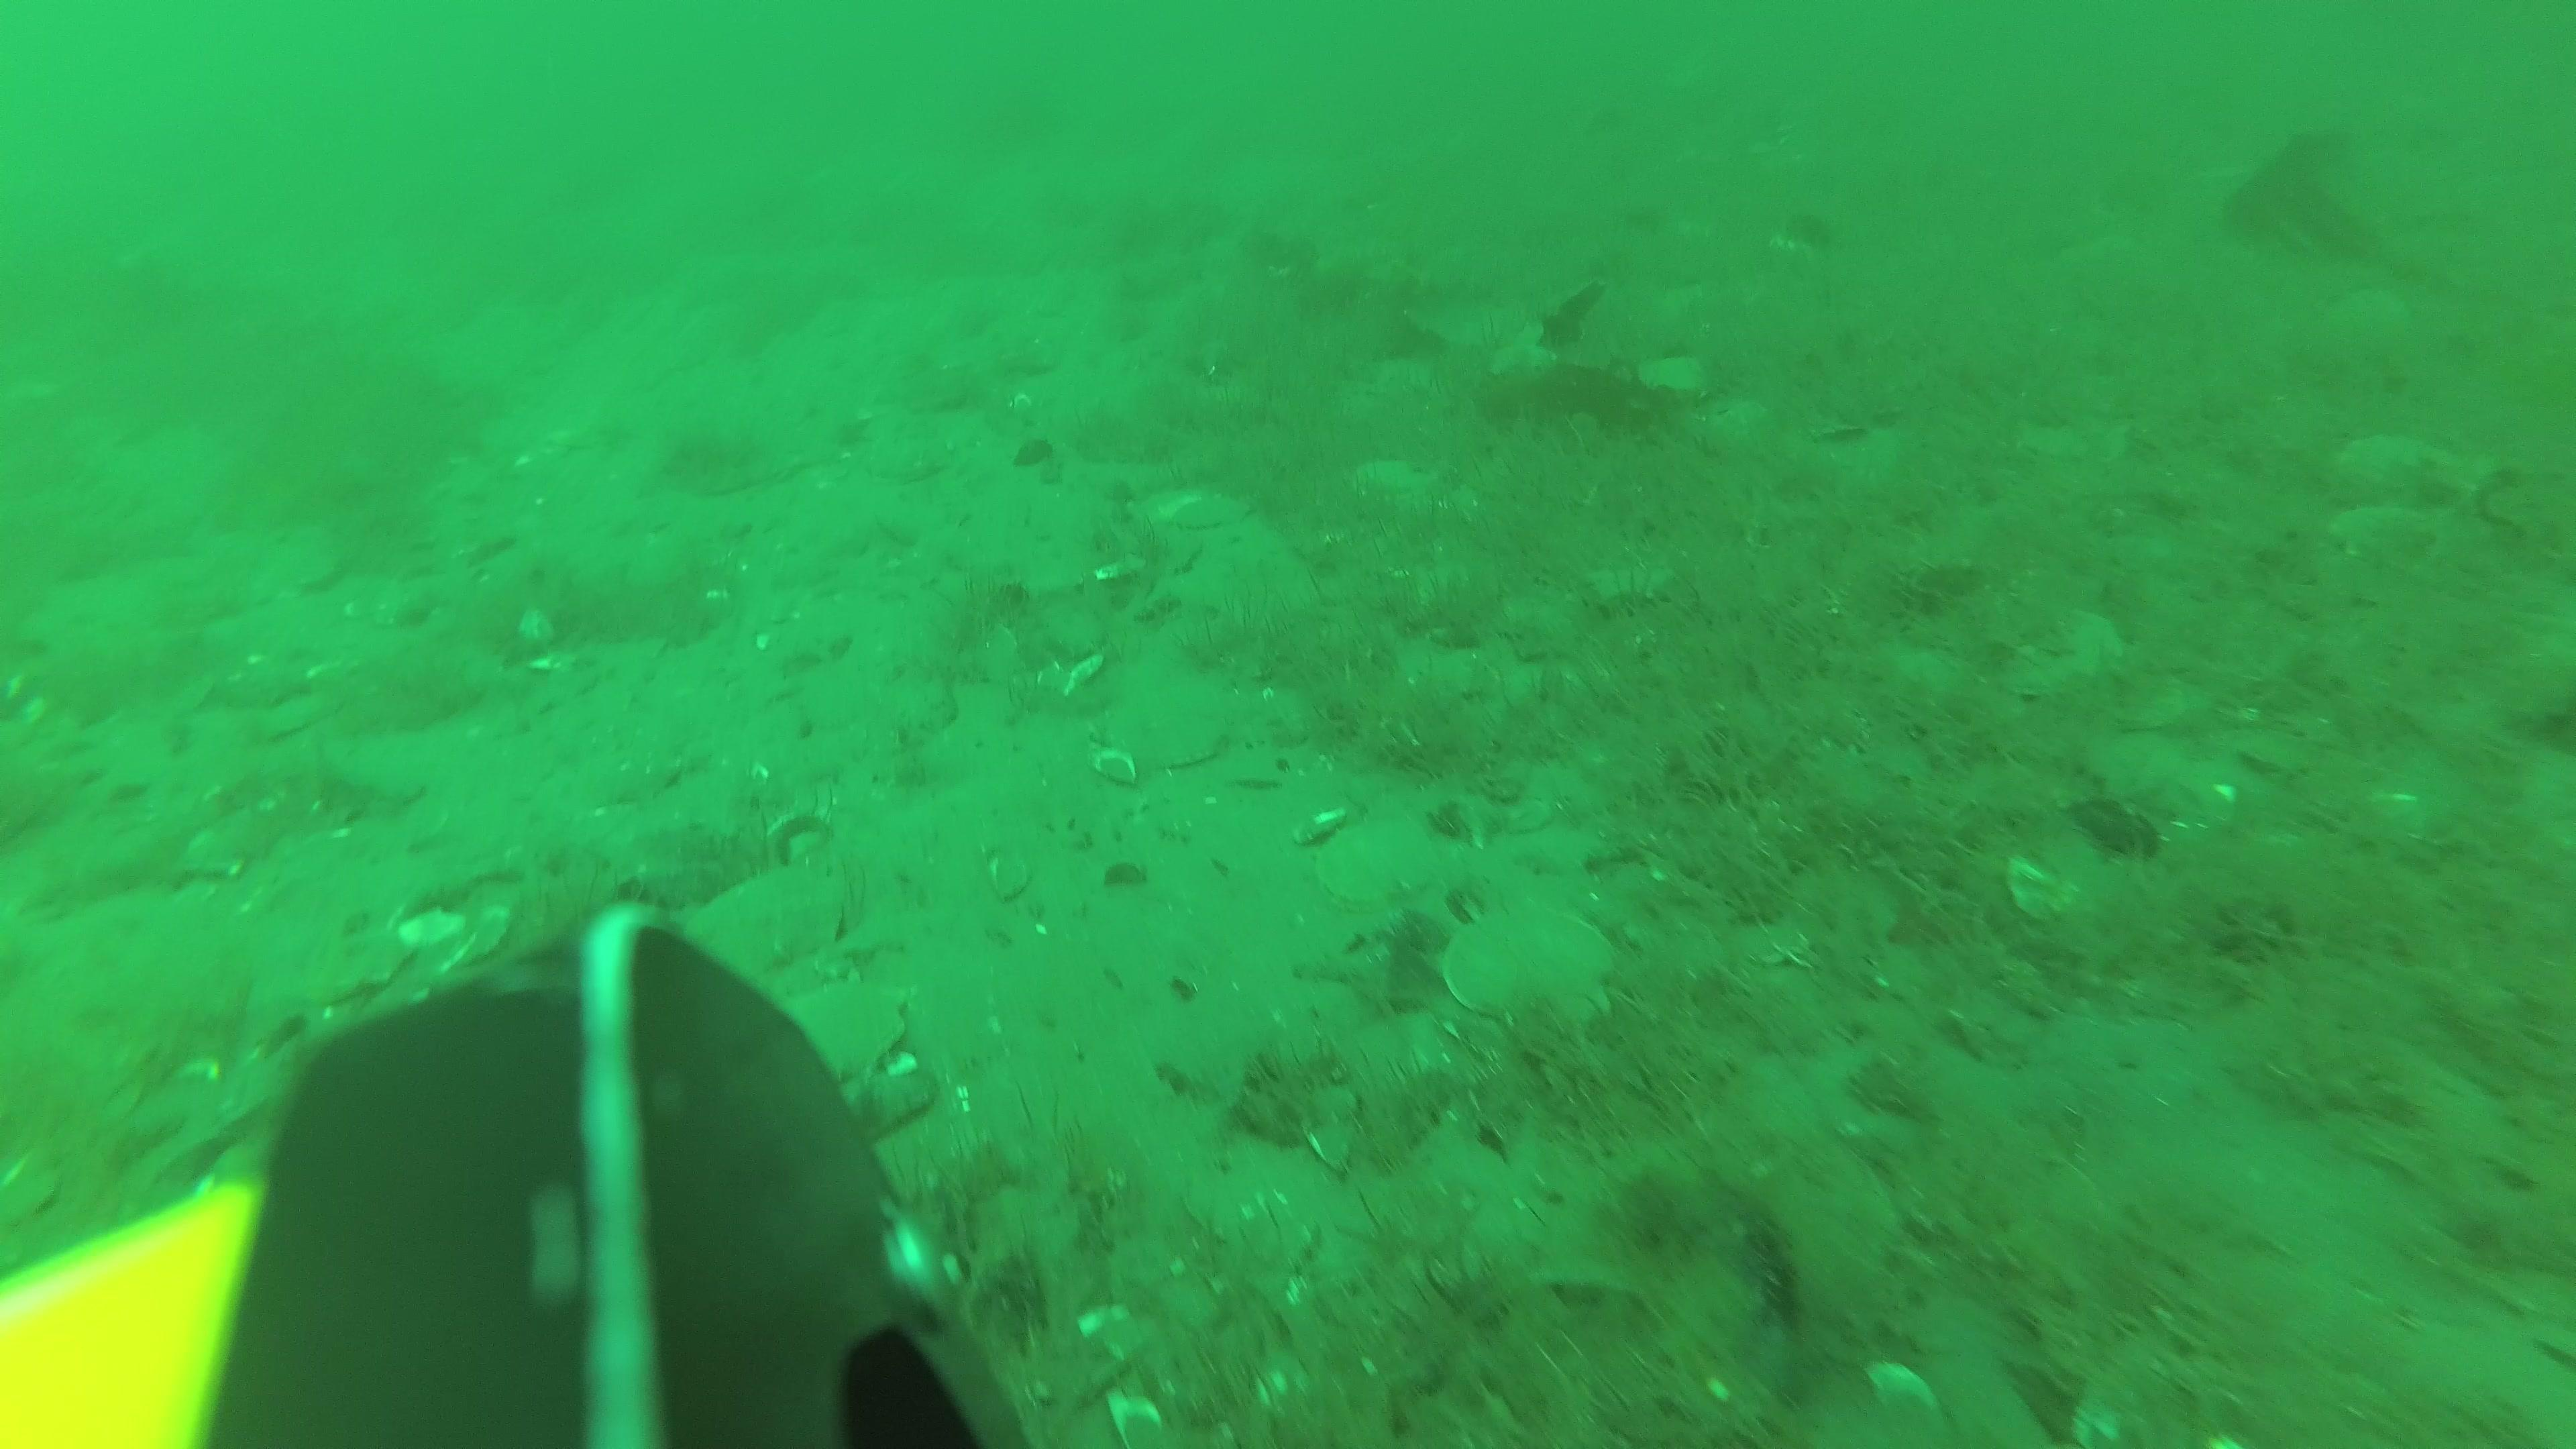scallop: (1451, 909, 1622, 1049), (681, 862, 842, 987), (773, 978, 913, 1099), (1111, 679, 1235, 771), (2337, 428, 2480, 506), (2010, 609, 2121, 702), (1315, 826, 1433, 911), (2334, 490, 2431, 557), (1145, 487, 1244, 531)
